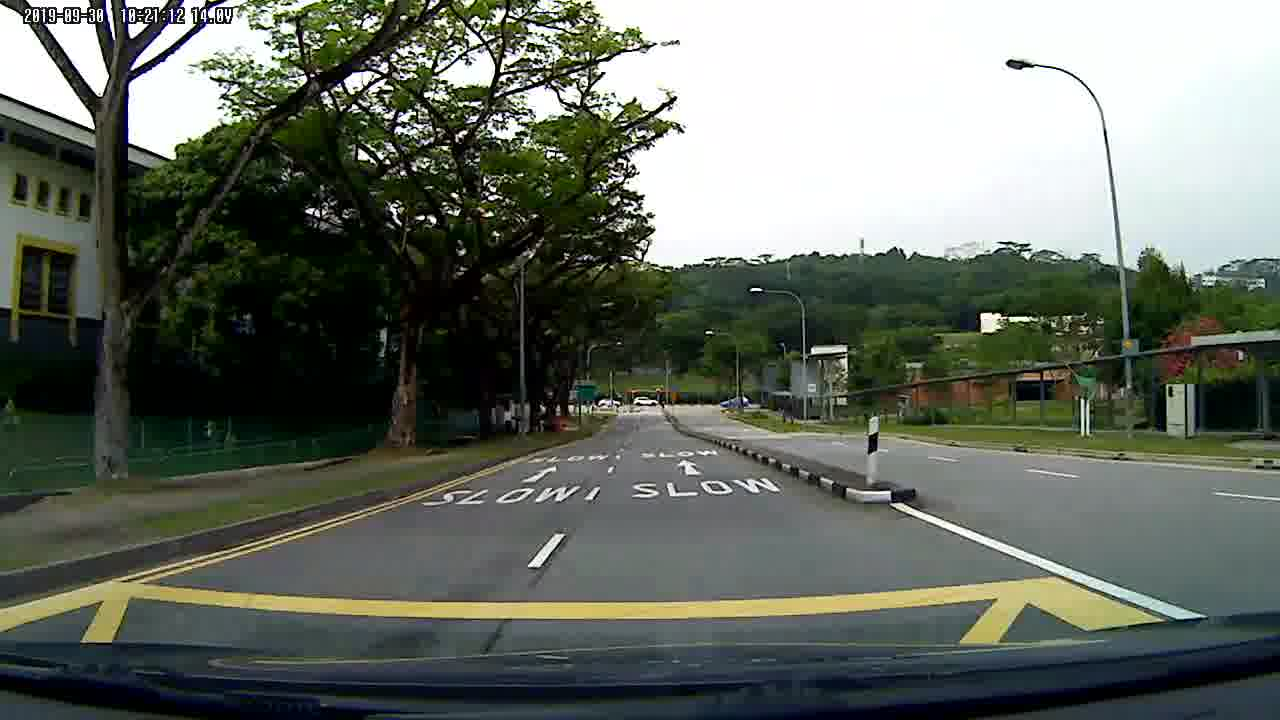car: (633, 395, 660, 408), (599, 396, 621, 405)
